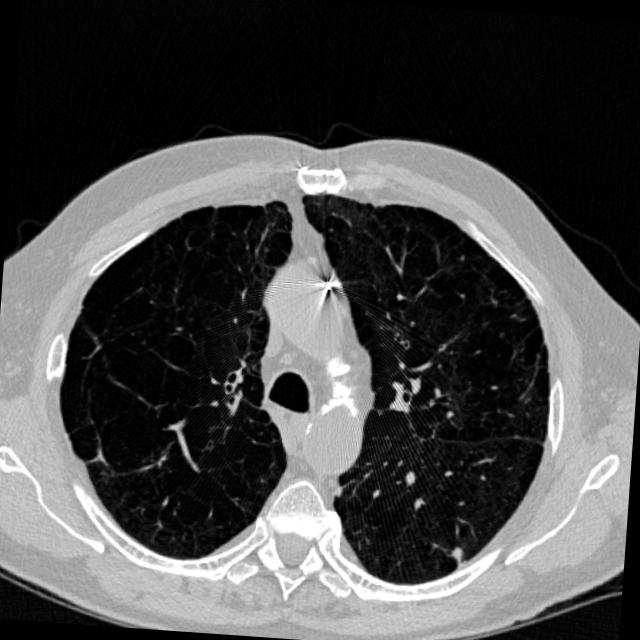nodule: (439, 536, 471, 568)
